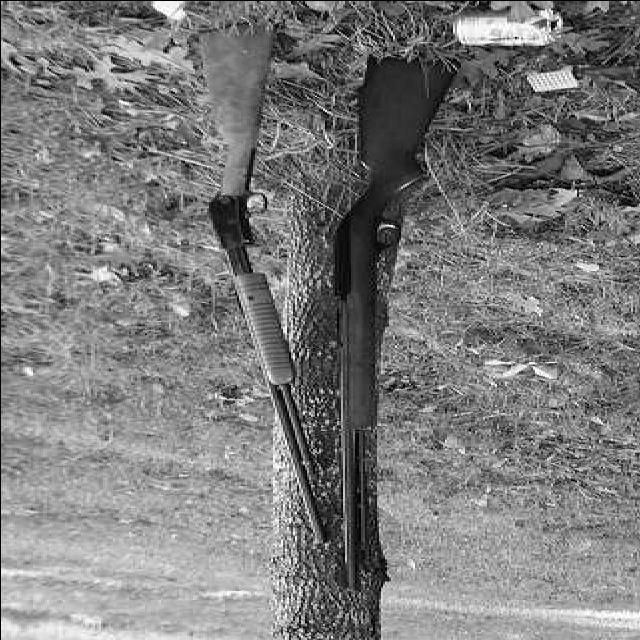heavyweapon: (179, 22, 343, 562), (327, 22, 443, 614)
